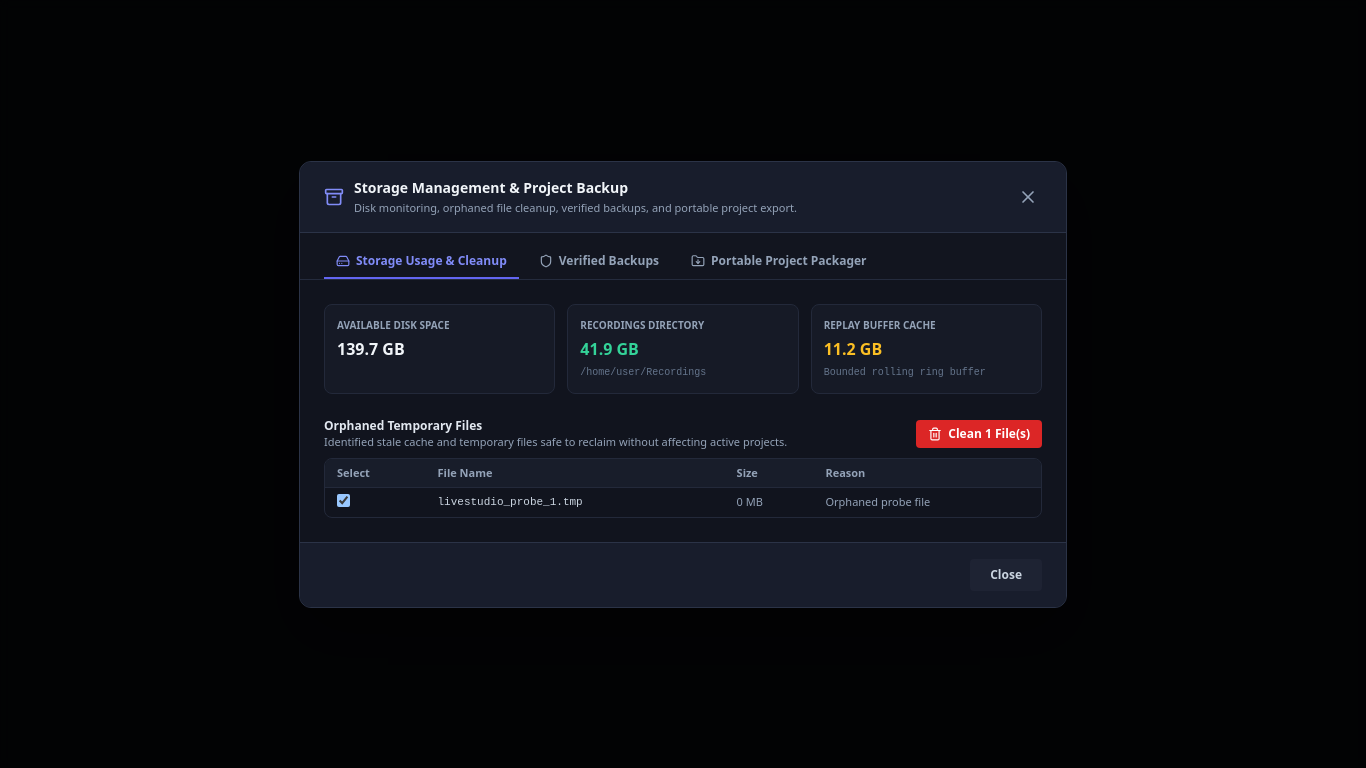
it: LiveStudio Pro Phase 11 Production Readiness & Crash Recovery › renders BackupStorageModal with disk overview and cleanup actions
Check: the heading "Storage Management & Project Backup" is shown, box [354, 178, 628, 196]
Check: the text "Recordings Directory" is shown, box [580, 318, 704, 332]
Switch to Verified Backups tab
Click the button "Verified Backups" at {"x": 599, "y": 262}, box [527, 244, 671, 278]
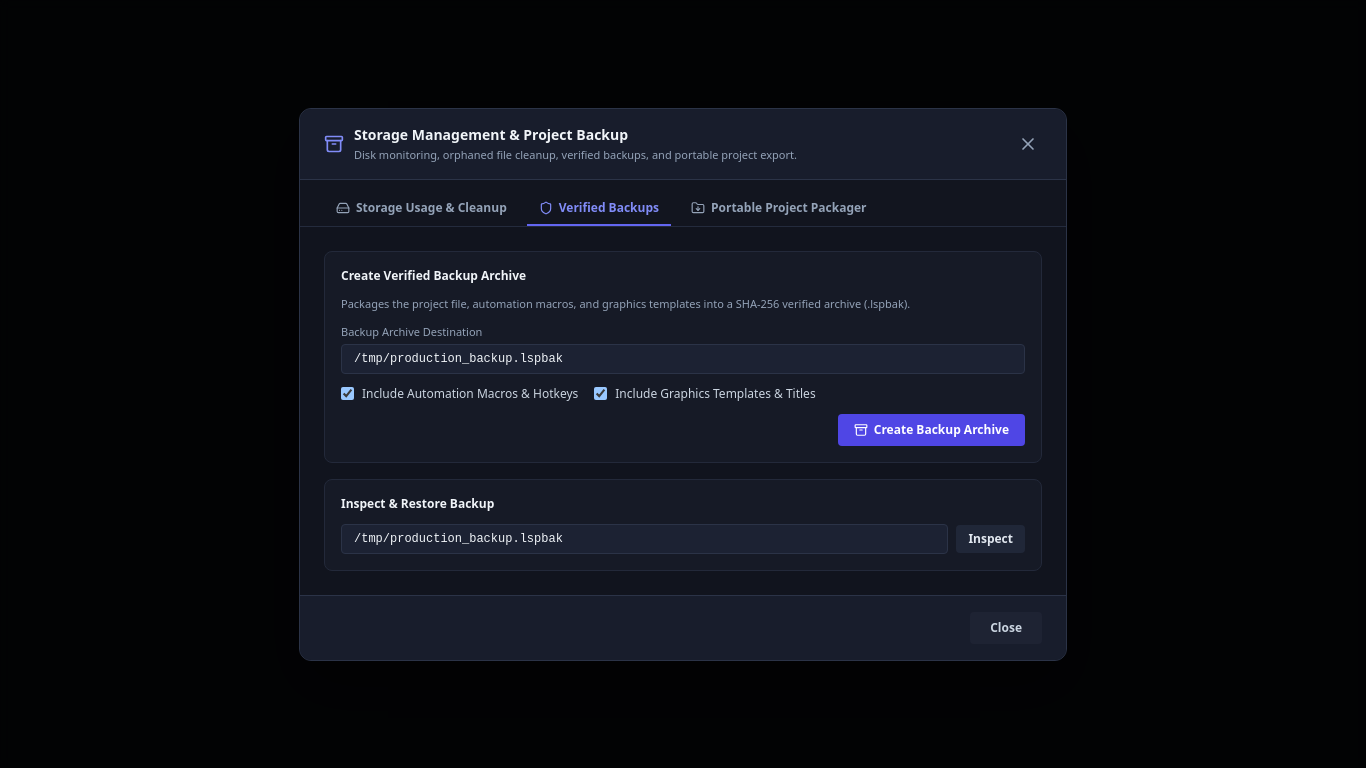
Check: the heading "Create Verified Backup Archive" is shown, box [341, 266, 526, 284]
Check: the heading "Inspect & Restore Backup" is shown, box [341, 494, 494, 512]
Switch to Portable Project tab
Click the button "Portable Project Packager" at {"x": 779, "y": 208}, box [679, 192, 878, 226]
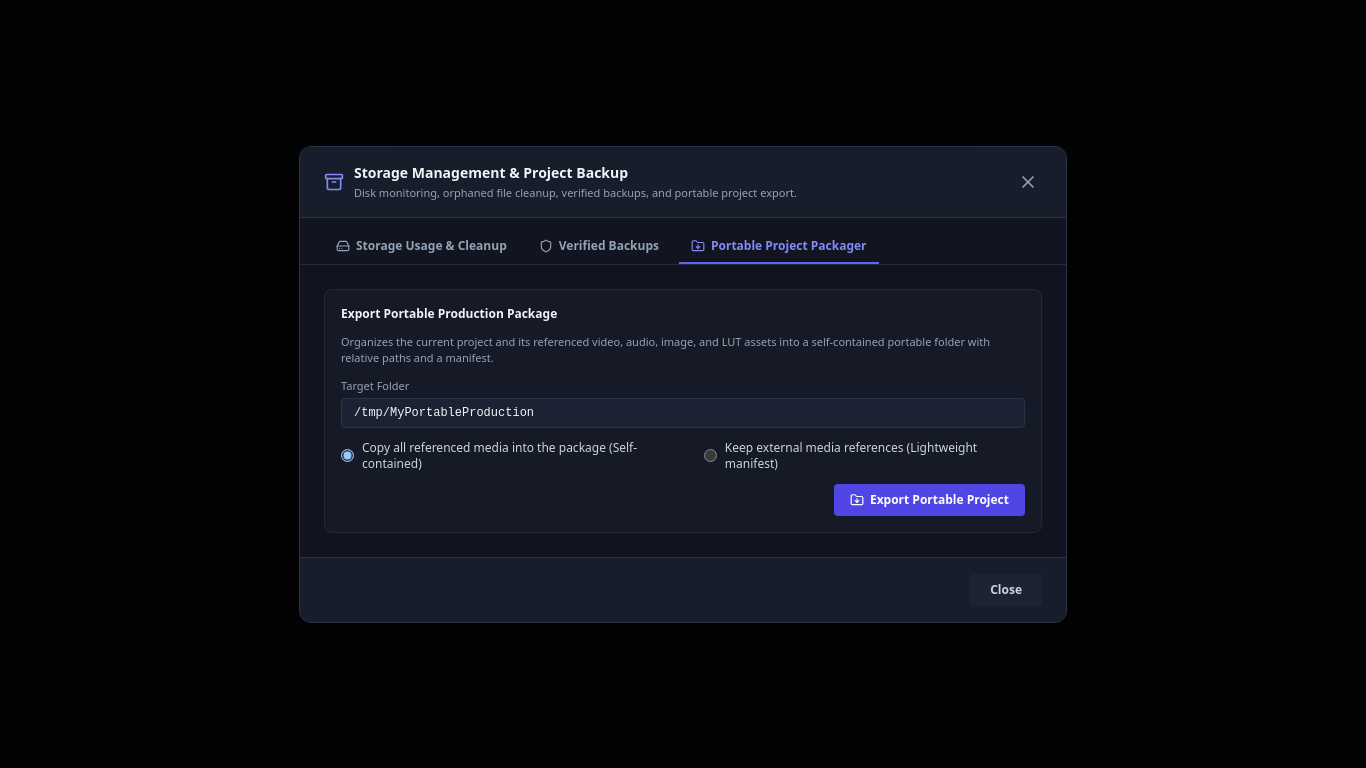
Check: the heading "Export Portable Production Package" is shown, box [341, 304, 557, 322]
Check: the text "Export Portable Project" is shown, box [870, 492, 1009, 508]
